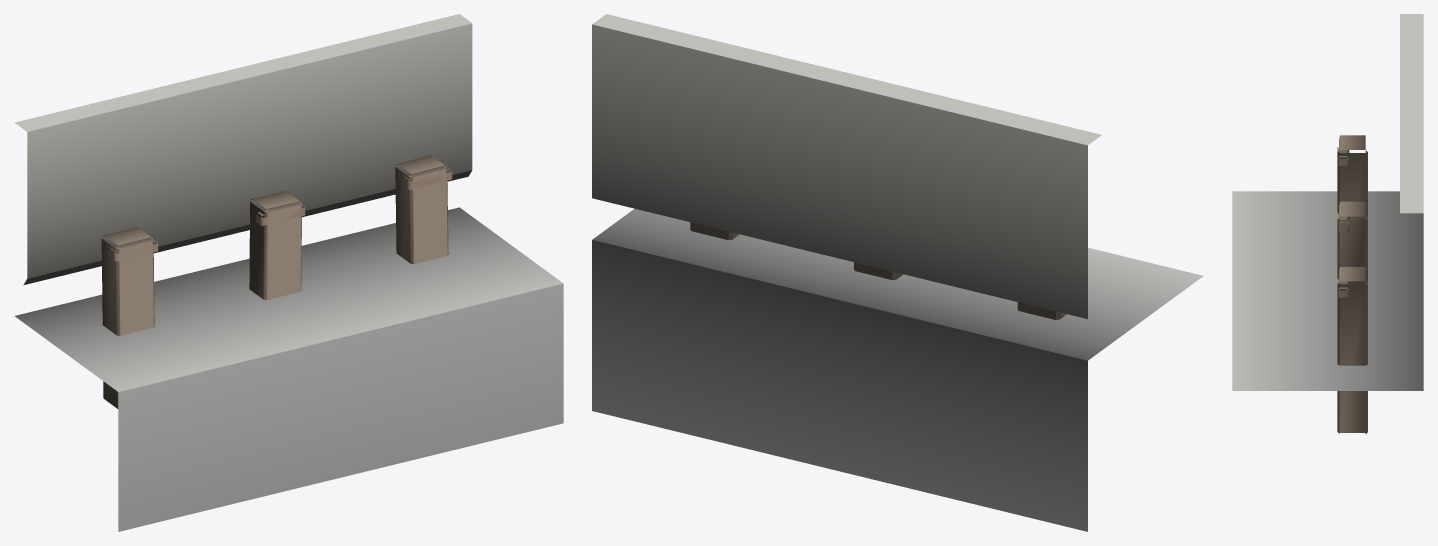
File: quay_edge.glb
3 views of the same model, side by side, from view 1: azimuth 30°, elevation 25°; view 2: azimuth 150°, elevation 25°; view 3: azimuth 270°, elevation 25° (orthographic). The views are drawn at different scales.
Parts seen in each view (by area): view 1: props_quay_edge; view 2: props_quay_edge; view 3: props_quay_edge.
Boxes of the visible parts, x1,y1,x2,y2 form: props_quay_edge: [15, 14, 563, 531]; props_quay_edge: [592, 14, 1203, 531]; props_quay_edge: [1232, 14, 1423, 433].
Bounding box in the file's own units: 4 × 2.98 × 1.62.
